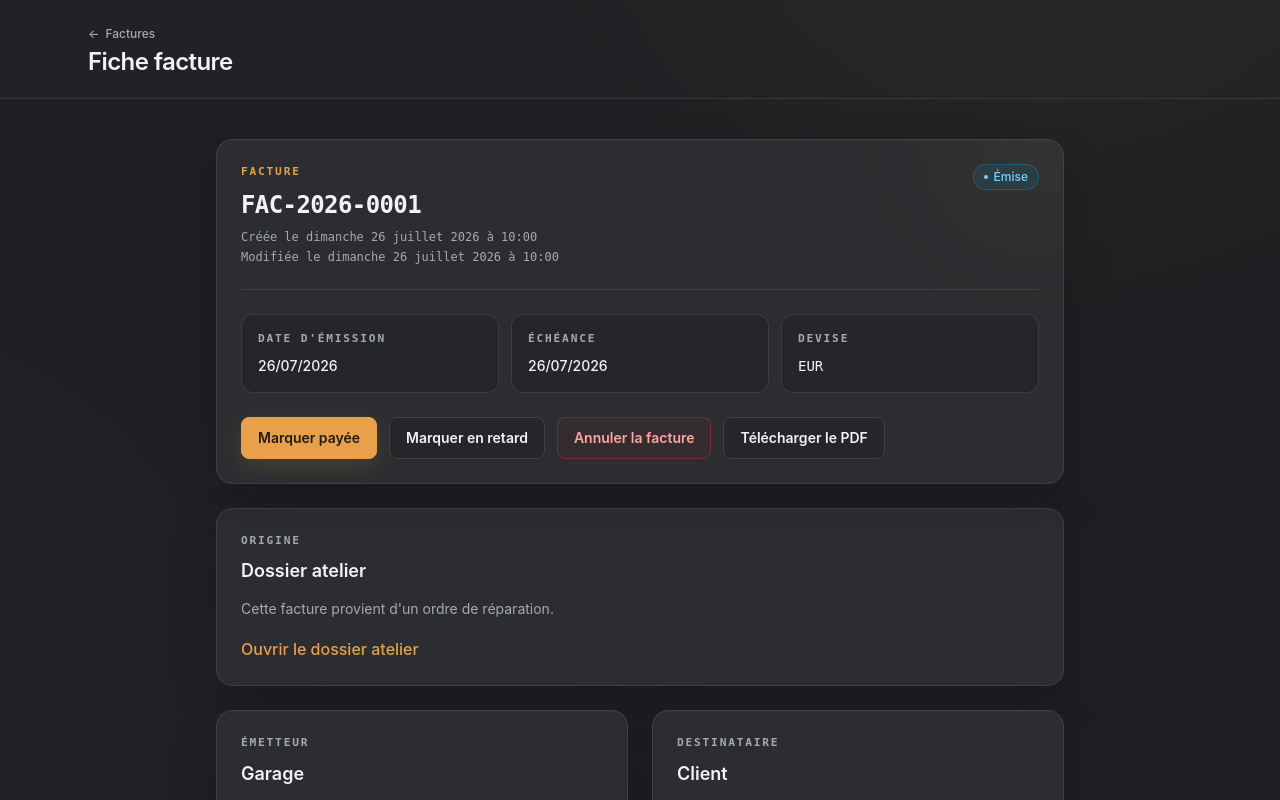
EmployeeInvoiceDetailPage › conserve les transitions et le PDF d’une facture émise
Expected: the button "Télécharger le PDF" is shown, left=724, top=417, right=885, bottom=459
Click the button "Marquer payée" at [309, 438], box left=241, top=417, right=377, bottom=459
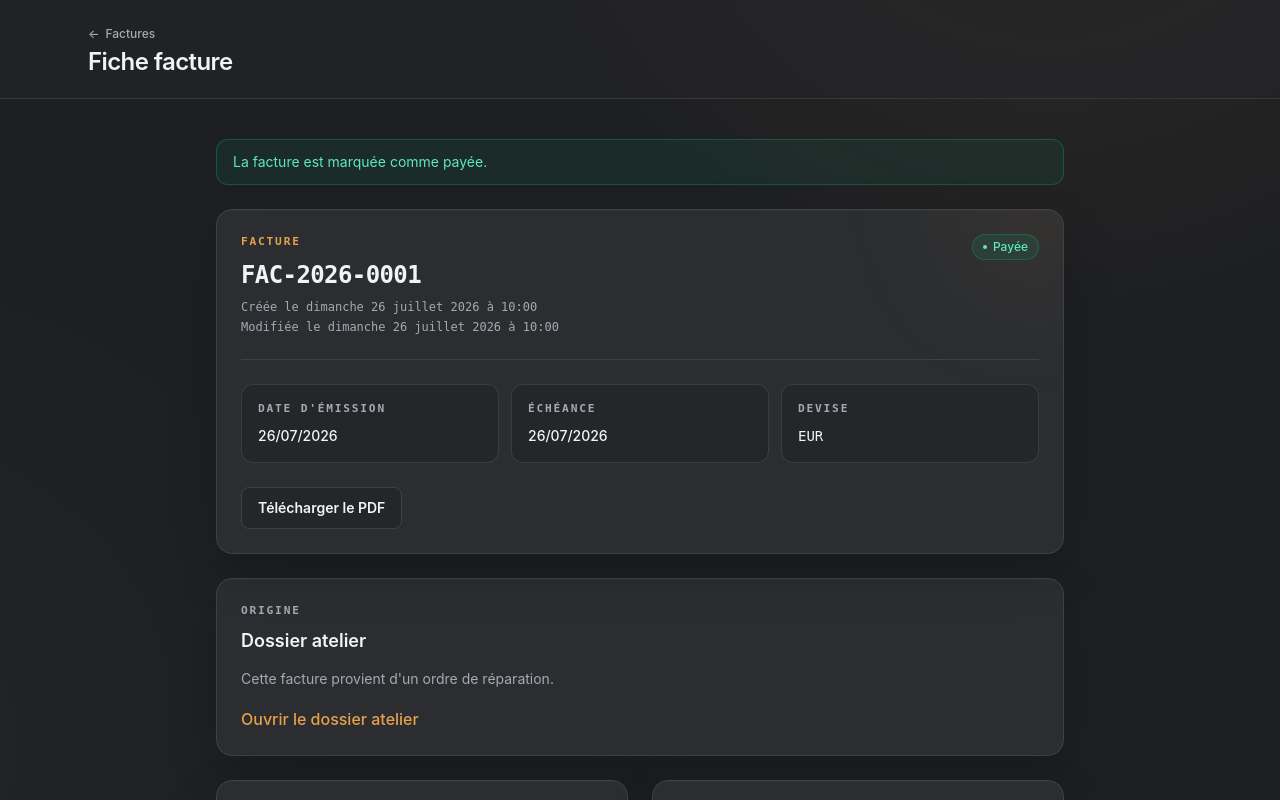
Expected: the text "La facture est marquée comme payée." is shown, left=216, top=139, right=1064, bottom=185
